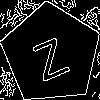Z: (26, 28, 71, 82)
